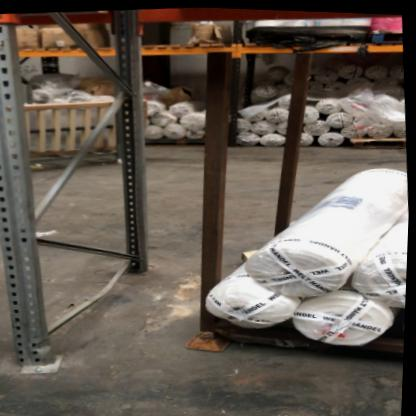vertical_damage: (13, 322, 75, 381)
